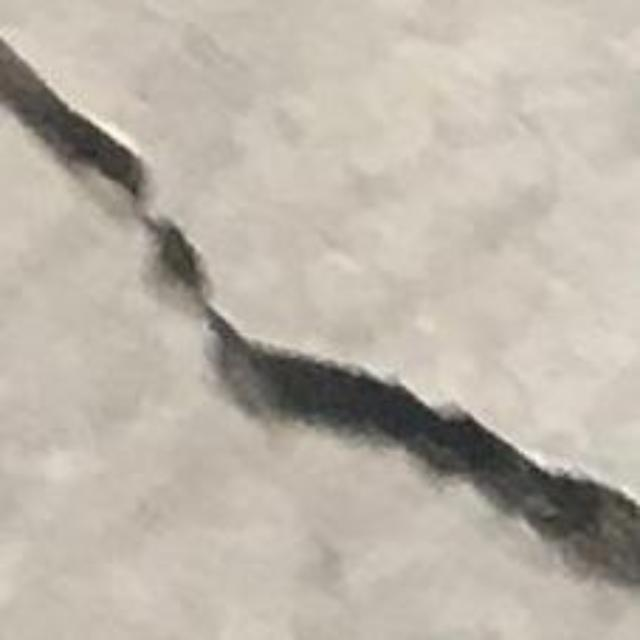crack: (0, 40, 639, 617)
